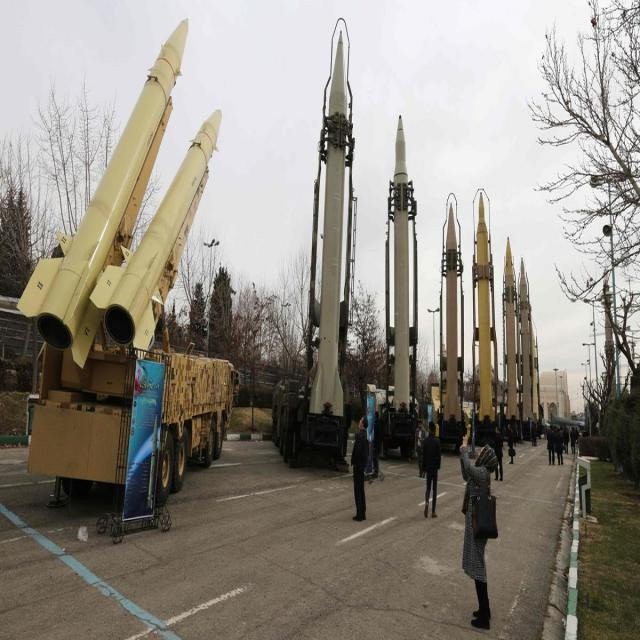missile: (8, 3, 201, 365), (81, 88, 240, 368), (310, 22, 348, 420), (388, 114, 416, 409), (467, 185, 492, 432), (439, 194, 460, 427), (501, 228, 518, 427)
